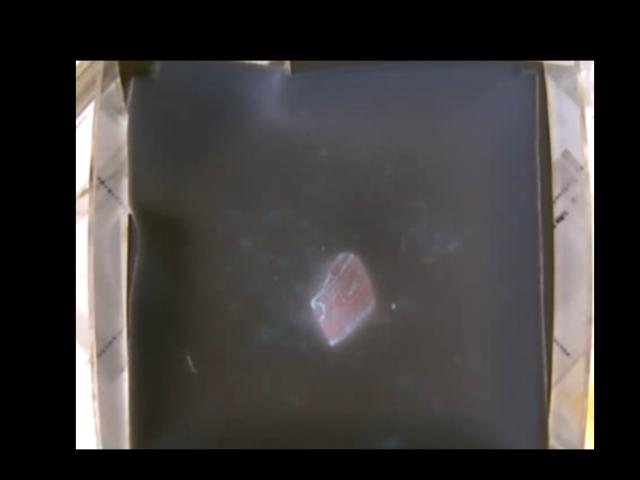China: (312, 255, 376, 344)
